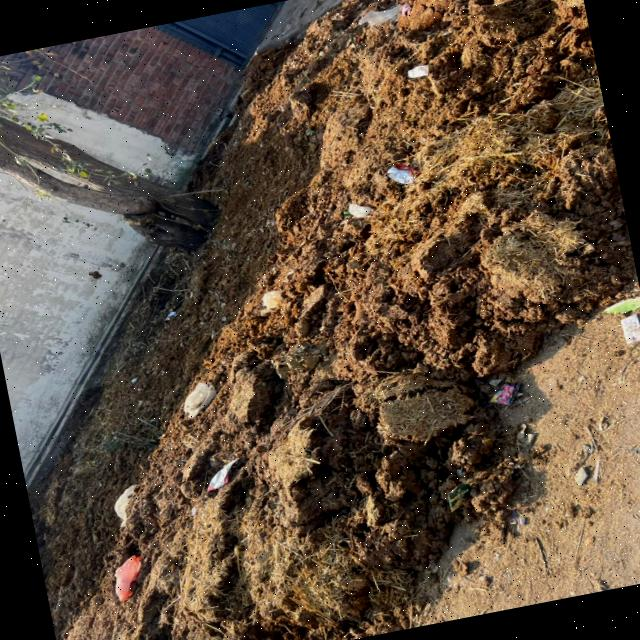garbage: (82, 294, 527, 640), (270, 0, 630, 354)
